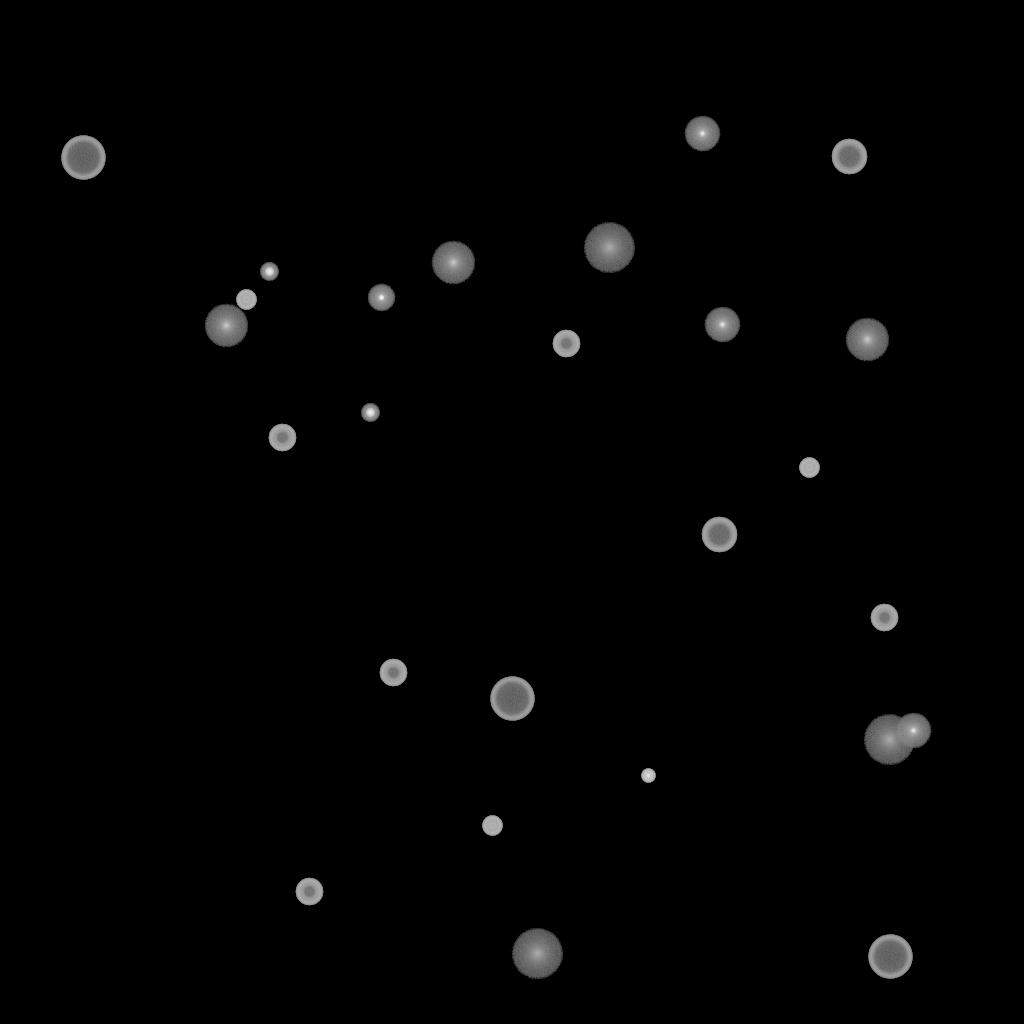depth:-10: (367, 284, 395, 312)
depth:-20: (361, 404, 379, 422), (260, 263, 278, 281)
depth:-30: (641, 769, 655, 783)
depth:-40: (799, 458, 819, 478), (482, 816, 502, 836), (236, 290, 256, 310)
depth:-50: (870, 604, 898, 632), (552, 330, 580, 358), (295, 878, 323, 906), (379, 659, 407, 687), (268, 424, 296, 452)
depth:-60: (701, 517, 737, 553), (831, 139, 867, 175)
depth:-70: (490, 677, 534, 721), (61, 136, 105, 180), (868, 935, 912, 979)
depth:0: (895, 713, 931, 749), (704, 307, 740, 343), (684, 116, 720, 152)
depth:10: (431, 241, 475, 285), (845, 318, 889, 362), (204, 304, 248, 348)
depth:20: (863, 715, 915, 765), (511, 929, 563, 979), (583, 223, 635, 273)
